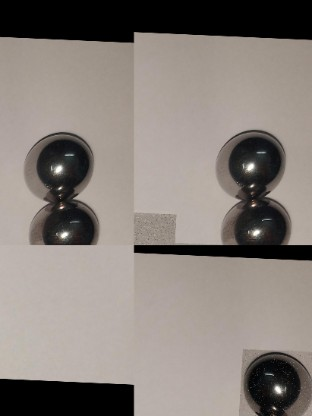ironball: (22, 128, 100, 195), (212, 130, 289, 196), (241, 346, 311, 415), (215, 197, 297, 244), (26, 199, 102, 245)
